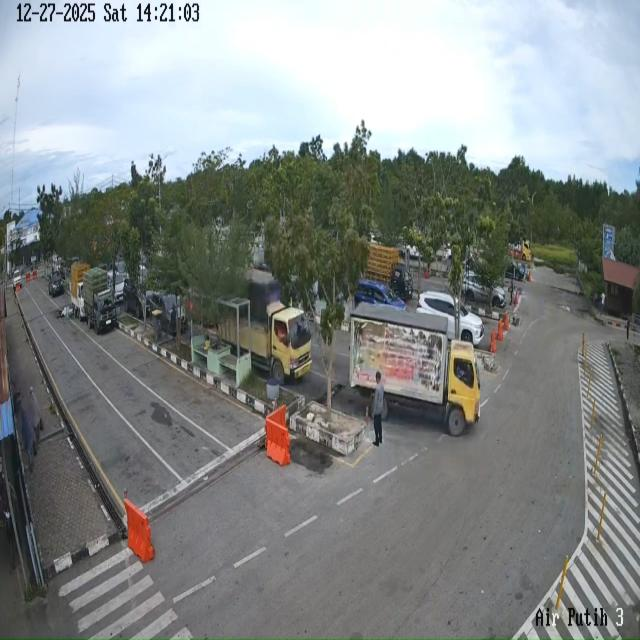Golongan IVA: (416, 291, 484, 347), (354, 279, 406, 311), (462, 271, 506, 308), (48, 272, 65, 298), (504, 261, 526, 281)
Golongan IVB: (82, 268, 116, 334), (70, 262, 90, 321)
Golongan VB: (350, 304, 480, 436), (217, 269, 312, 384)
